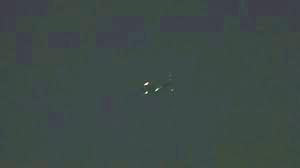Plane: (137, 76, 190, 98)
